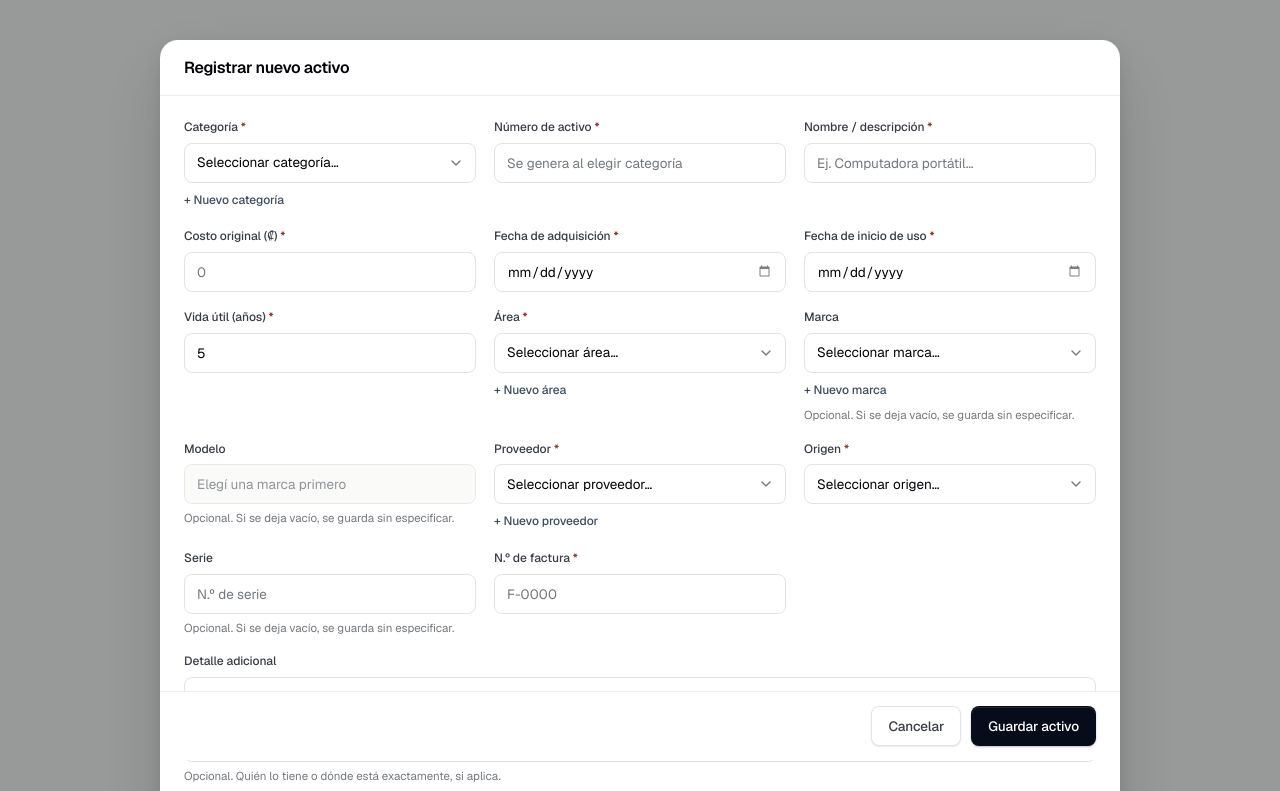
Test: CrearActivoModal › deshabilita Modelo hasta elegir Marca y lo pide filtrado por esa marca
The image size is (1280, 791).
Expected: the dropdown named "Modelo" is disabled, [184,464,476,504]
Select "Dell" in the dropdown named "Marca" at (950, 353), box [804,333,1096,373]
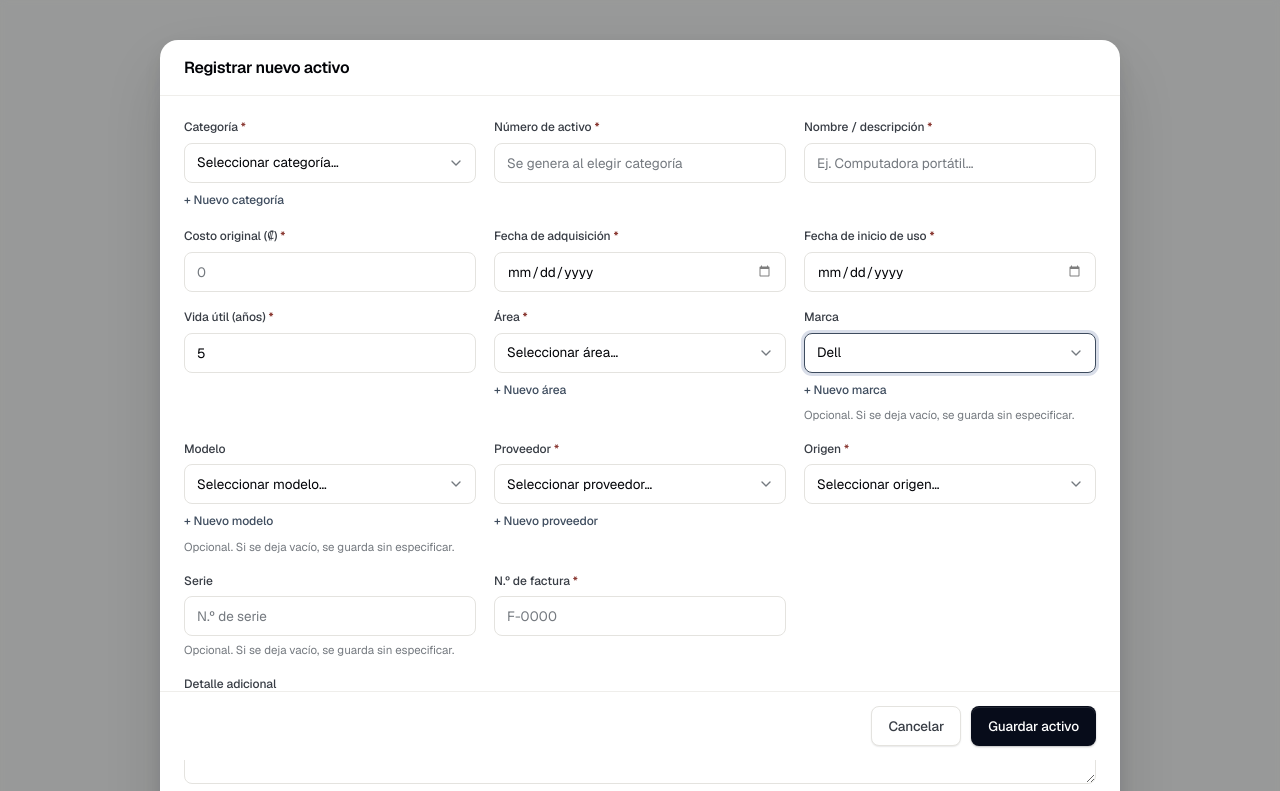
Result: the dropdown named "Modelo" is enabled at [184,464,476,504]
